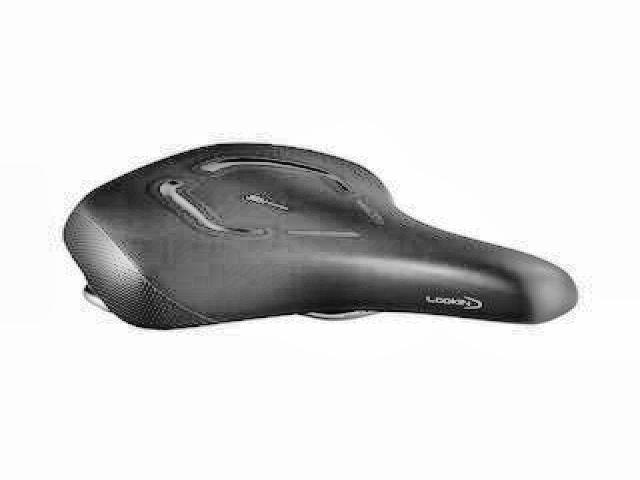saddle: (61, 138, 582, 329)
